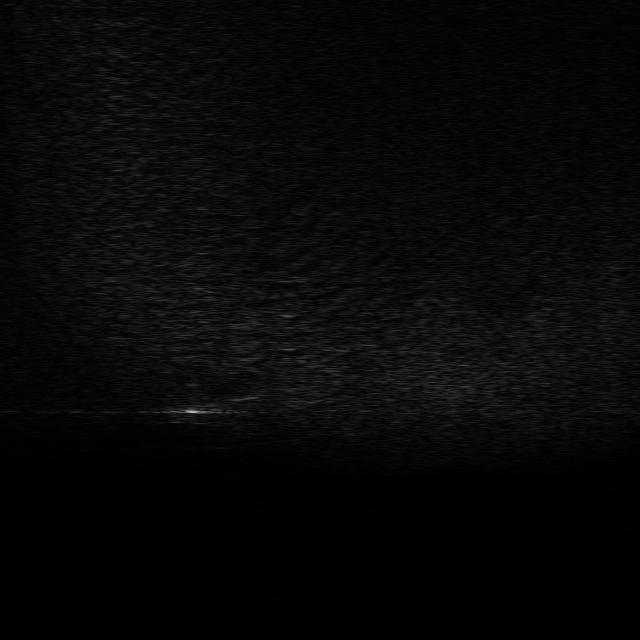plane: (154, 380, 254, 429)
